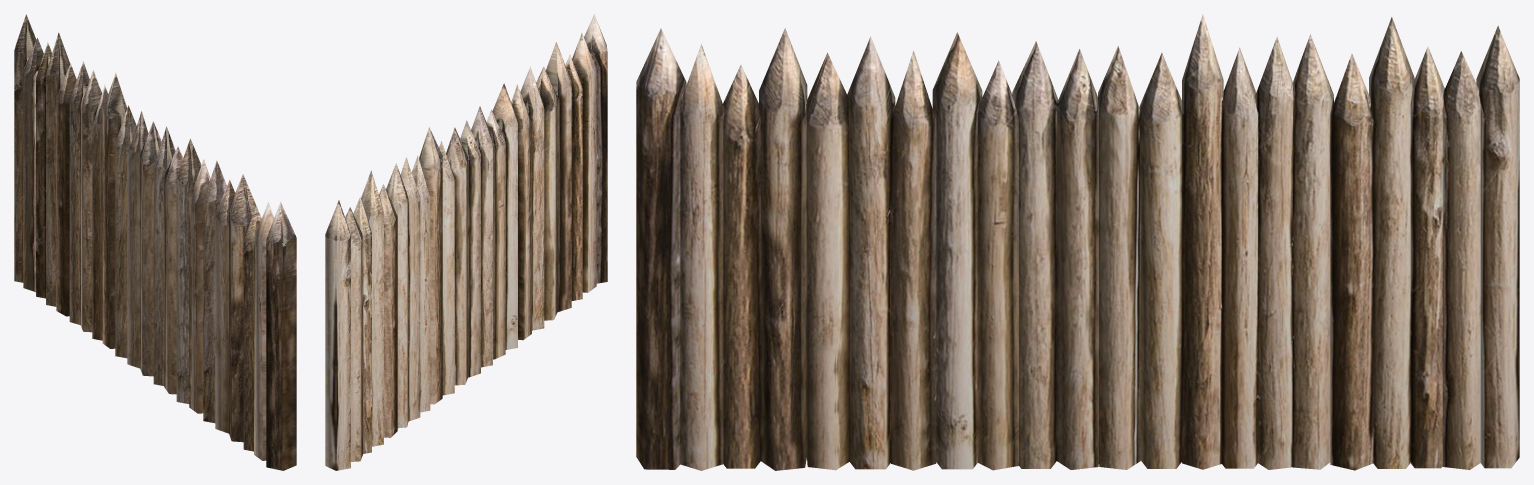
The model's file is input.glb.
3 renders of one model, left to right at view 1: azimuth 30°, elevation 25°; view 2: azimuth 150°, elevation 25°; view 3: azimuth 270°, elevation 25°, orthographic. The views are drawn at different scales.
Parts seen in each view (by area): view 1: Palisade_wall_Low_Poly; view 2: Palisade_wall_Low_Poly; view 3: Palisade_wall_Low_Poly.
Part boxes in pixels (x1,y1,x2,y2): Palisade_wall_Low_Poly: [14, 14, 296, 470]; Palisade_wall_Low_Poly: [325, 14, 607, 470]; Palisade_wall_Low_Poly: [636, 14, 1519, 470].
Bounding box in the file's own units: 3.1 × 30.02 × 53.83.
2 materials, 1 textured.
